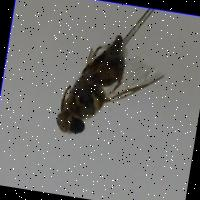Oriental-fruit-fly: (43, 19, 172, 154)
